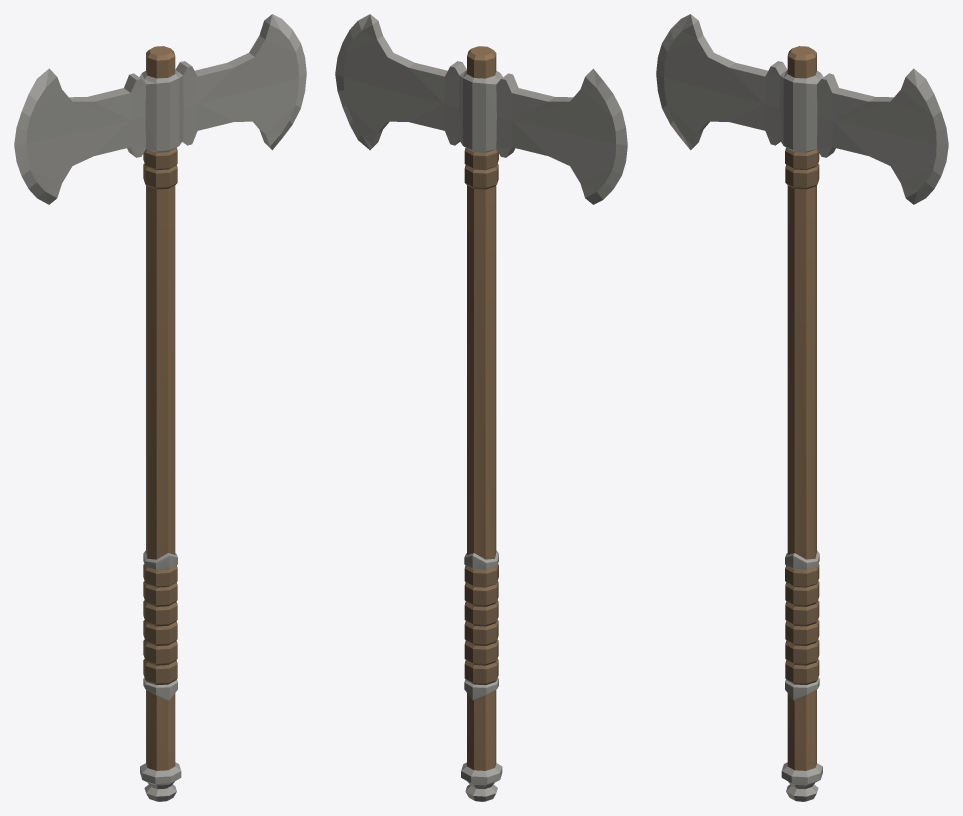
File: SM_pwe_medieval_axe_05.fbx
3 renders of one model, left to right at view 1: azimuth 30°, elevation 25°; view 2: azimuth 150°, elevation 25°; view 3: azimuth 330°, elevation 25°, orthographic.
Visible parts, largest first — view 1: SM_pwe_medieval_axe_05; view 2: SM_pwe_medieval_axe_05; view 3: SM_pwe_medieval_axe_05.
Boxes of the visible parts, bbox=[...] form: SM_pwe_medieval_axe_05: bbox=[14, 14, 306, 801]; SM_pwe_medieval_axe_05: bbox=[335, 14, 627, 801]; SM_pwe_medieval_axe_05: bbox=[656, 14, 948, 801].
Size of the model in its own units: 50.41 by 125 by 6.35.
